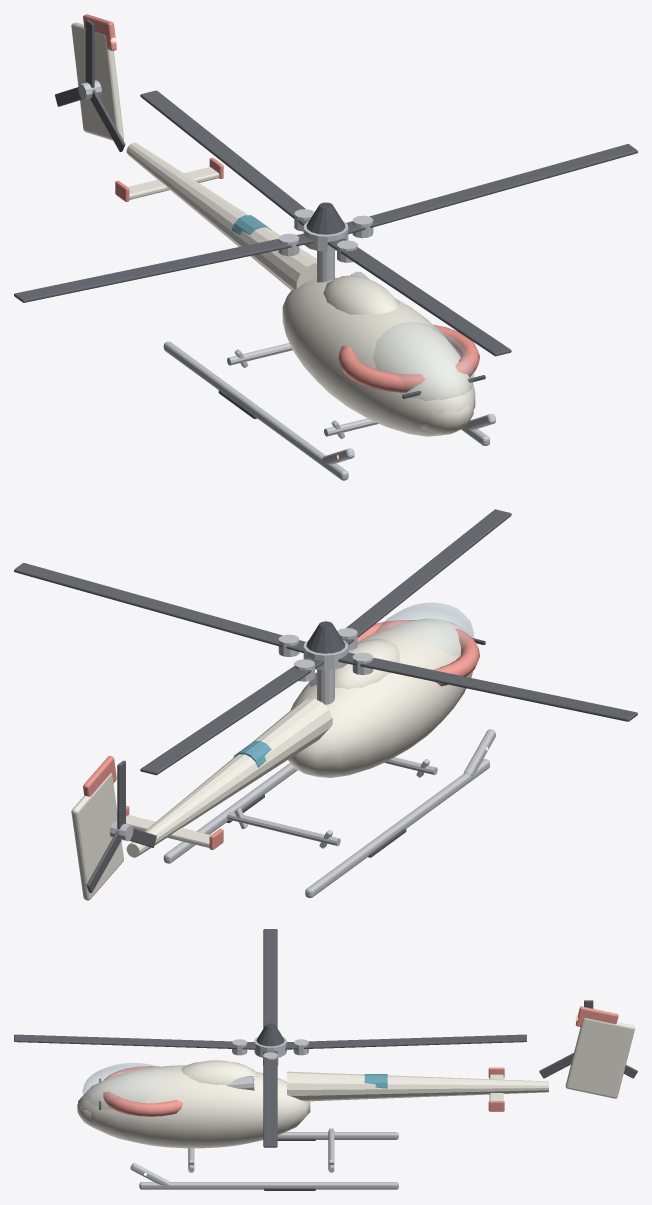
Rendered from misc_helicopter.glb.
3 renders of one model, top to bottom at view 1: azimuth 30°, elevation 25°; view 2: azimuth 150°, elevation 25°; view 3: azimuth 270°, elevation 25°, orthographic. The views are drawn at different scales.
Parts seen in each view (by area): view 1: misc_helicopter_cabin, misc_helicopter_cockpit_glass, misc_helicopter_boom, misc_helicopter_rotor_blade_0, misc_helicopter_rotor_blade_2, misc_helicopter_fin, misc_helicopter_rotor_blade_1, misc_helicopter_rotor_blade_3, misc_helicopter_shoulder, misc_helicopter_skid_l, misc_helicopter_fairing, misc_helicopter_nose (+4 smaller); view 2: misc_helicopter_cabin, misc_helicopter_boom, misc_helicopter_fin, misc_helicopter_rotor_blade_0, misc_helicopter_rotor_blade_2, misc_helicopter_rotor_blade_3, misc_helicopter_cockpit_glass, misc_helicopter_rotor_blade_1, misc_helicopter_skid_l, misc_helicopter_fairing, misc_helicopter_skid_r, misc_helicopter_shoulder (+9 smaller); view 3: misc_helicopter_cabin, misc_helicopter_boom, misc_helicopter_fin, misc_helicopter_cockpit_glass, misc_helicopter_skid_r, misc_helicopter_rotor_blade_3, misc_helicopter_rotor_blade_1, misc_helicopter_rotor_blade_2, misc_helicopter_rotor_blade_0, misc_helicopter_fairing, misc_helicopter_shoulder, misc_helicopter_skid_l (+2 smaller).
Part boxes in pixels (x1,y1,x2,y2): misc_helicopter_cabin: (282,277,475,436); misc_helicopter_cockpit_glass: (373,322,473,400); misc_helicopter_boom: (126,142,316,290); misc_helicopter_rotor_blade_0: (346,144,637,234); misc_helicopter_rotor_blade_2: (14,233,313,302); misc_helicopter_fin: (71,22,123,140); misc_helicopter_rotor_blade_1: (140,90,309,226); misc_helicopter_rotor_blade_3: (327,238,511,356); misc_helicopter_shoulder: (338,324,479,392); misc_helicopter_skid_l: (163,341,348,480); misc_helicopter_fairing: (323,275,399,314); misc_helicopter_nose: (421,398,473,435); misc_helicopter_cabin: (288,618,472,777); misc_helicopter_boom: (126,698,332,857); misc_helicopter_fin: (71,773,123,900); misc_helicopter_rotor_blade_0: (14,563,305,652); misc_helicopter_rotor_blade_2: (338,652,637,721); misc_helicopter_rotor_blade_3: (342,509,511,644); misc_helicopter_cockpit_glass: (375,602,473,656); misc_helicopter_rotor_blade_1: (140,657,324,775); misc_helicopter_skid_l: (305,759,489,898); misc_helicopter_fairing: (335,639,399,688); misc_helicopter_skid_r: (163,763,297,863); misc_helicopter_shoulder: (357,620,479,686); misc_helicopter_cabin: (78,1065,310,1148); misc_helicopter_boom: (287,1071,548,1101); misc_helicopter_fin: (565,1018,634,1098); misc_helicopter_cockpit_glass: (82,1063,161,1109); misc_helicopter_skid_r: (139,1182,398,1189); misc_helicopter_rotor_blade_3: (14,1034,255,1049); misc_helicopter_rotor_blade_1: (285,1034,526,1049); misc_helicopter_rotor_blade_2: (263,929,277,1028); misc_helicopter_rotor_blade_0: (263,1051,277,1147); misc_helicopter_fairing: (181,1060,257,1084); misc_helicopter_shoulder: (103,1066,182,1116); misc_helicopter_skid_l: (277,1132,398,1139).
Size of the model in its own units: 10.33 by 3.51 by 12.57.
